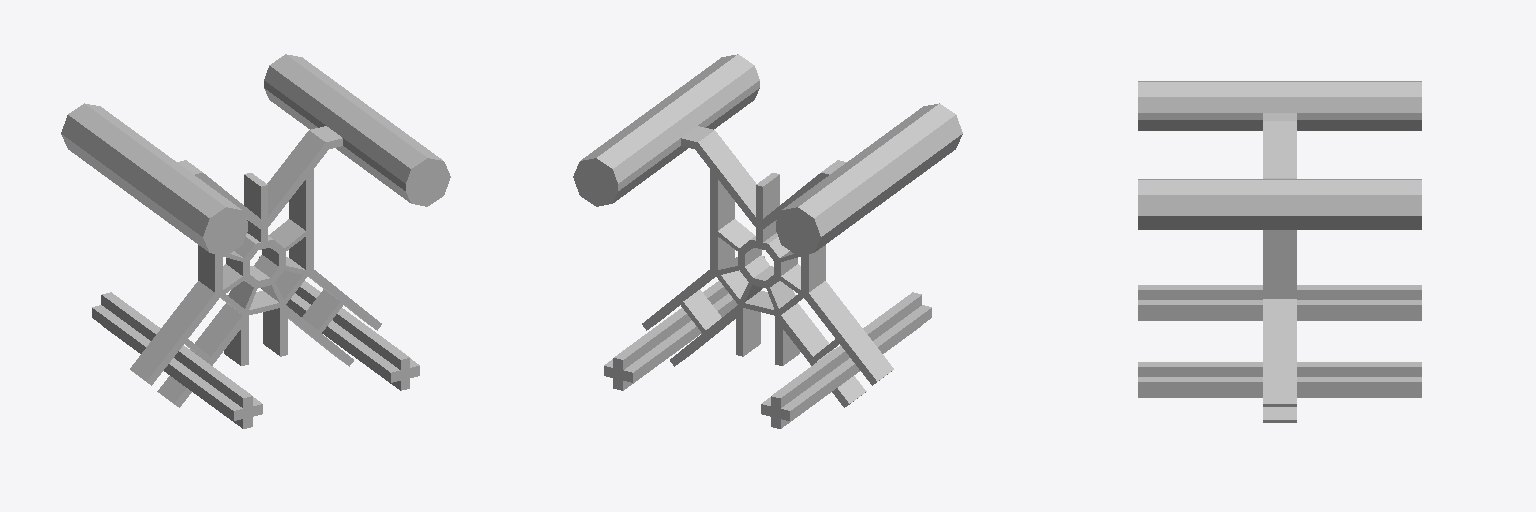
Rendered from knextrack.obj.
3 views of the same model, side by side, from view 1: azimuth 30°, elevation 25°; view 2: azimuth 150°, elevation 25°; view 3: azimuth 270°, elevation 25° (orthographic).
Bounding box in the file's own units: 1.86 × 1.79 × 1.84.